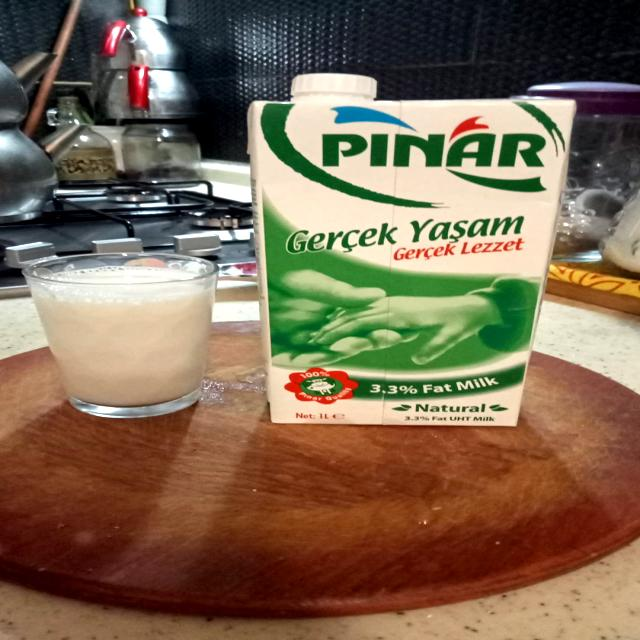milk: (235, 78, 575, 431), (14, 247, 231, 419)
